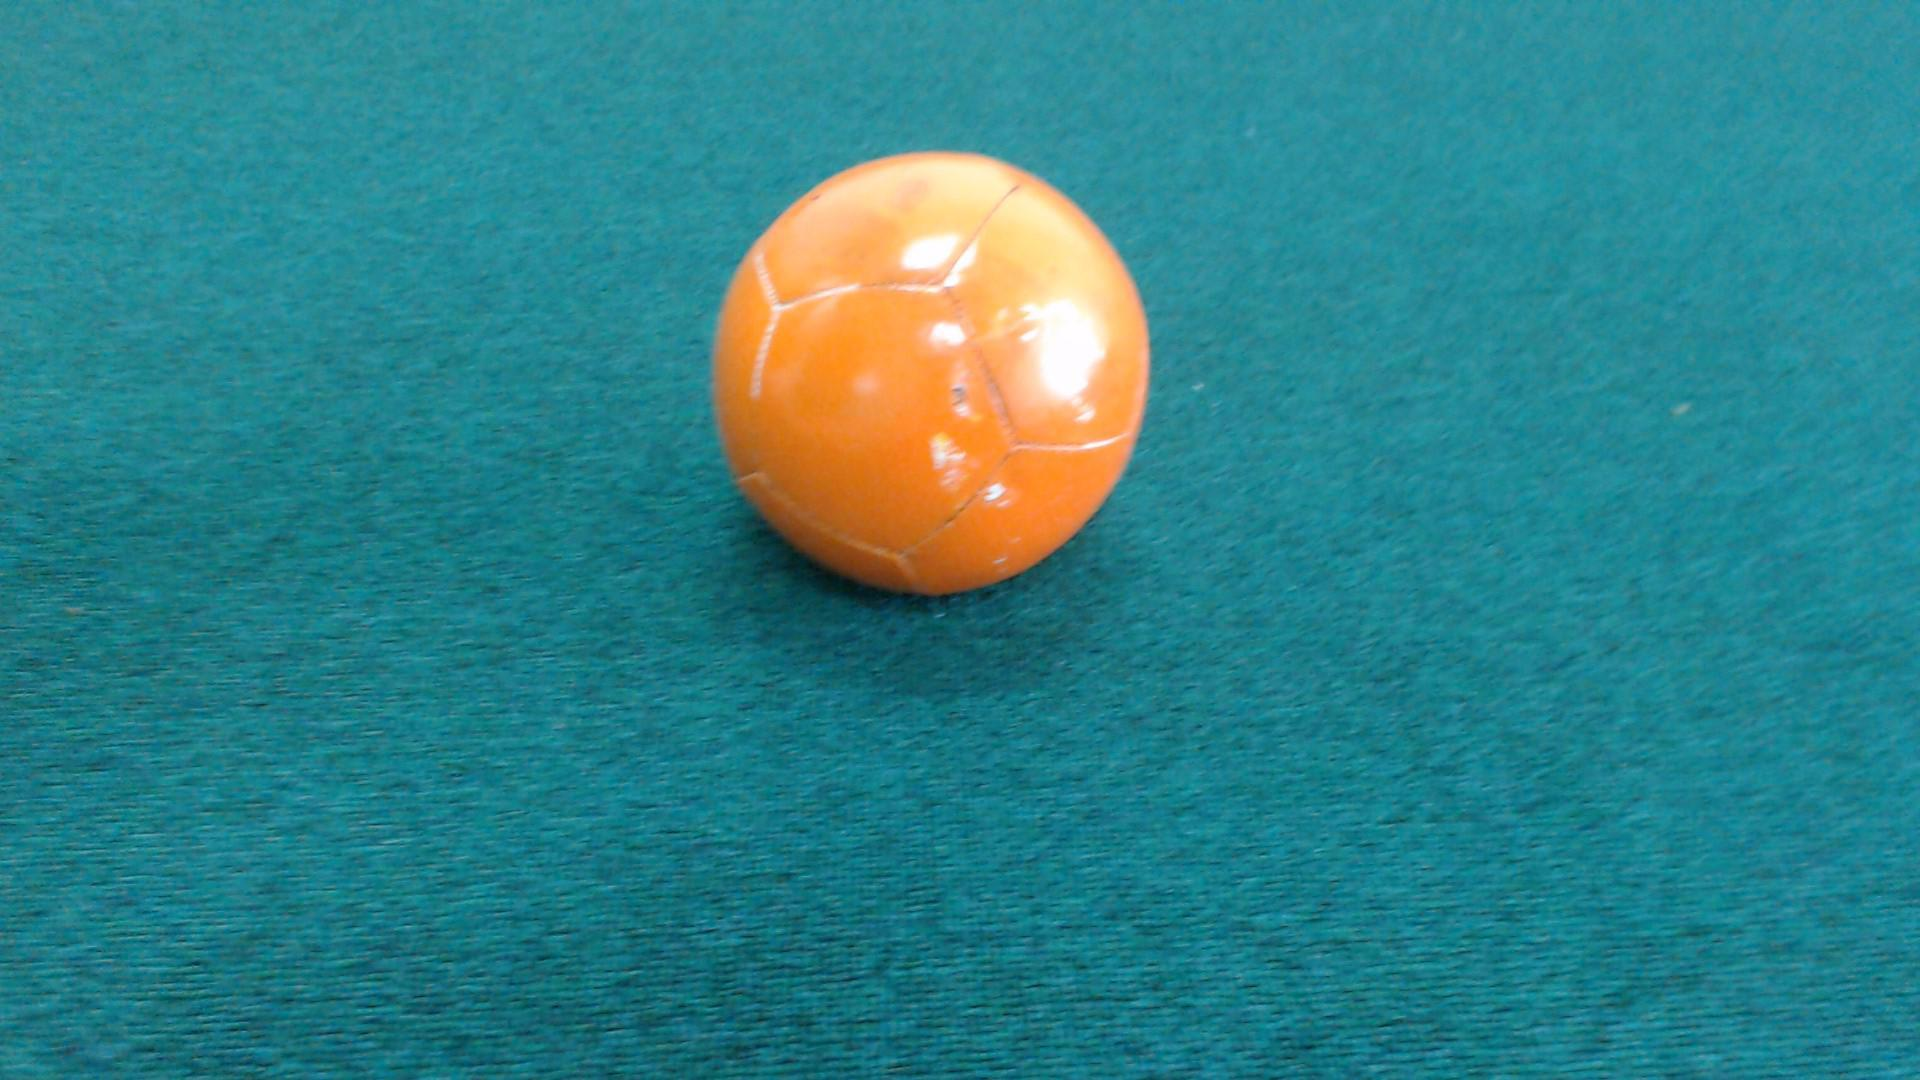bola: (646, 137, 1180, 597)
